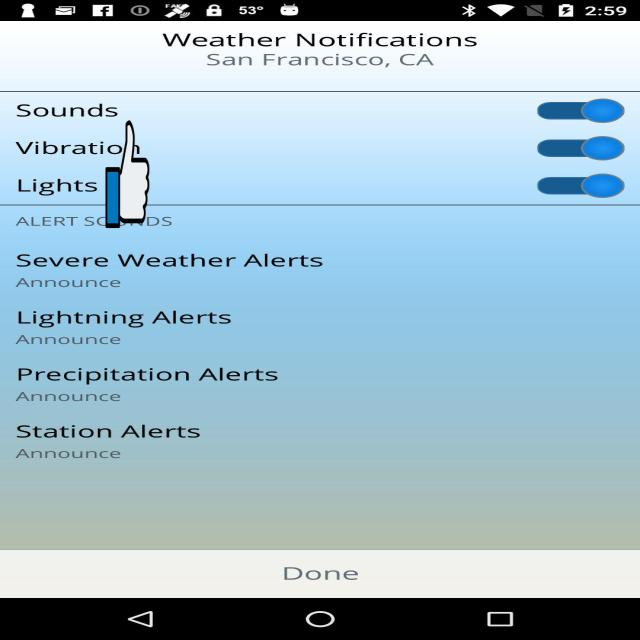privacy zuckering: (106, 118, 150, 230)
